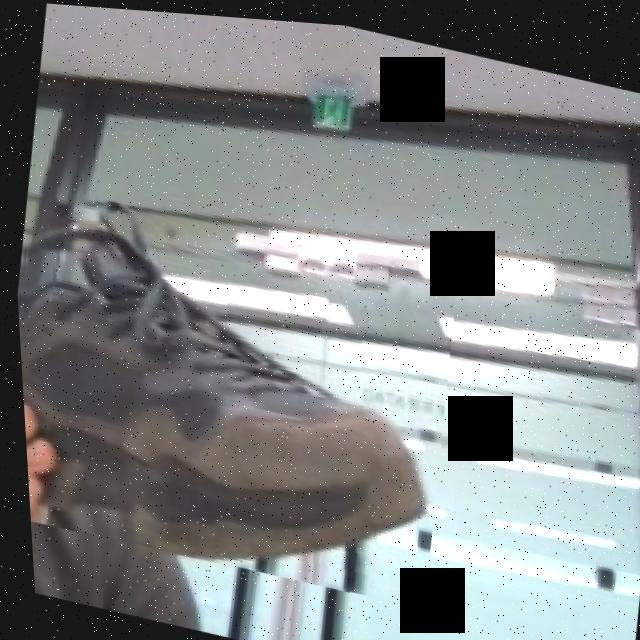shoe: (8, 180, 470, 609)
